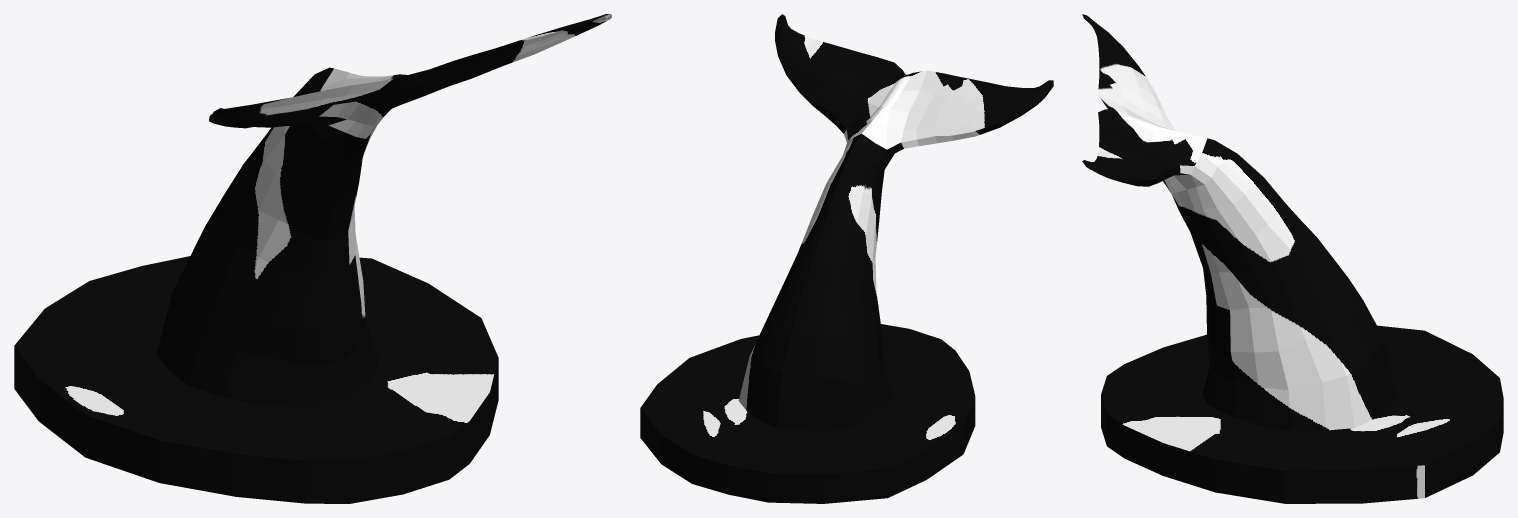
Rendered from whale_tale.fbx.
3 renders of one model, left to right at view 1: azimuth 30°, elevation 25°; view 2: azimuth 150°, elevation 25°; view 3: azimuth 270°, elevation 25°, orthographic. The views are drawn at different scales.
Parts seen in each view (by area): view 1: whale_tale2; view 2: whale_tale2; view 3: whale_tale2.
Part boxes in pixels (x1,y1,x2,y2): whale_tale2: (14,14,611,503); whale_tale2: (640,14,1053,503); whale_tale2: (1082,14,1503,503).
Bounding box in the file's own units: 143 × 175 × 170.
